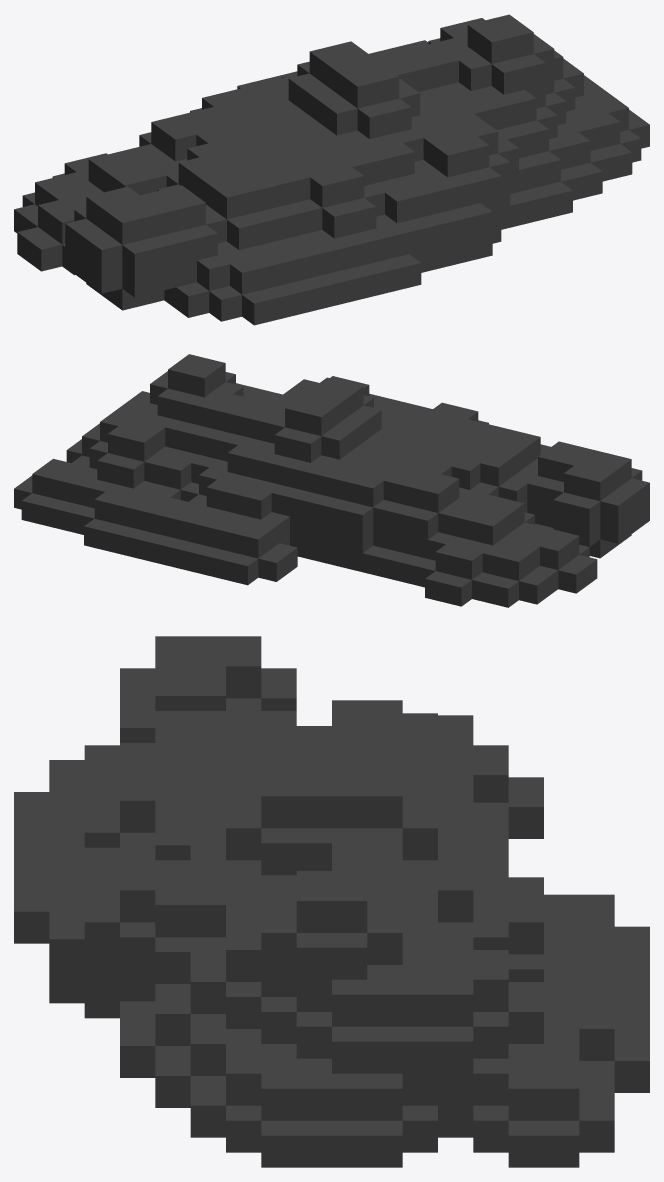
The model's file is stone_norm_01.obj.
3 renders of one model, top to bottom at view 1: azimuth 30°, elevation 25°; view 2: azimuth 150°, elevation 25°; view 3: azimuth 270°, elevation 25°, orthographic. The views are drawn at different scales.
Size of the model in its own units: 2.8 by 0.6 by 1.8.
1 material, 1 textured.
